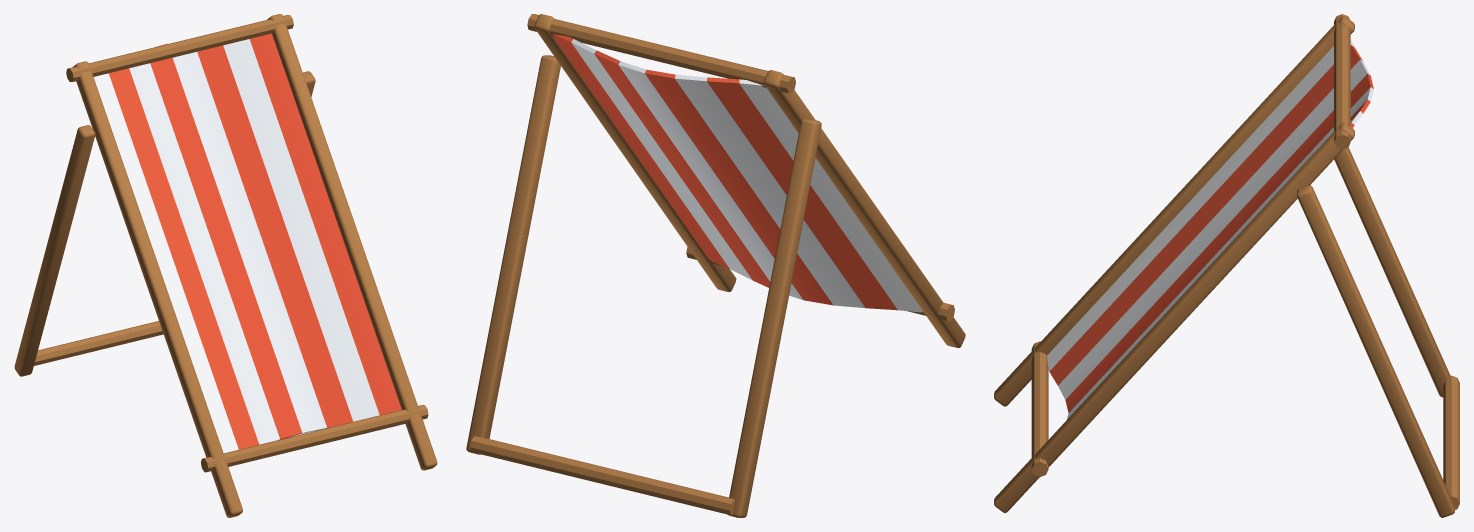
File: SunBedRed.fbx
3 renders of one model, left to right at view 1: azimuth 30°, elevation 25°; view 2: azimuth 150°, elevation 25°; view 3: azimuth 270°, elevation 25°, orthographic. The views are drawn at different scales.
Visible parts, largest first — view 1: vaszon; view 2: vaszon; view 3: vaszon.
Boxes of the visible parts, x1,y1,x2,y2 form: vaszon: [14, 14, 437, 517]; vaszon: [466, 14, 965, 517]; vaszon: [994, 14, 1459, 517].
Size of the model in its own units: 0.72 by 1.01 by 1.11.
1 material, 1 textured.
